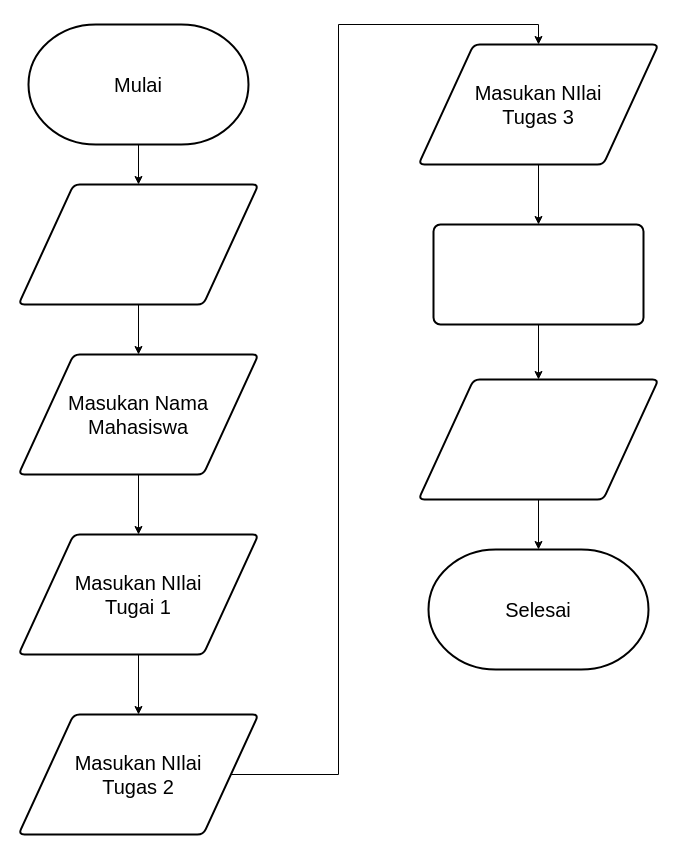
Some shapes in this 676 by 853 pixel diagram are drawn without their labels. Each missing label, with the centre of its shape:
"Masukan NIM mahasiswa" goes at pixel 138 244.
"Menampilkan Hasil rata rata" goes at pixel 538 439.
"menghitung rata rata dari nilai tugas" goes at pixel 538 274.
